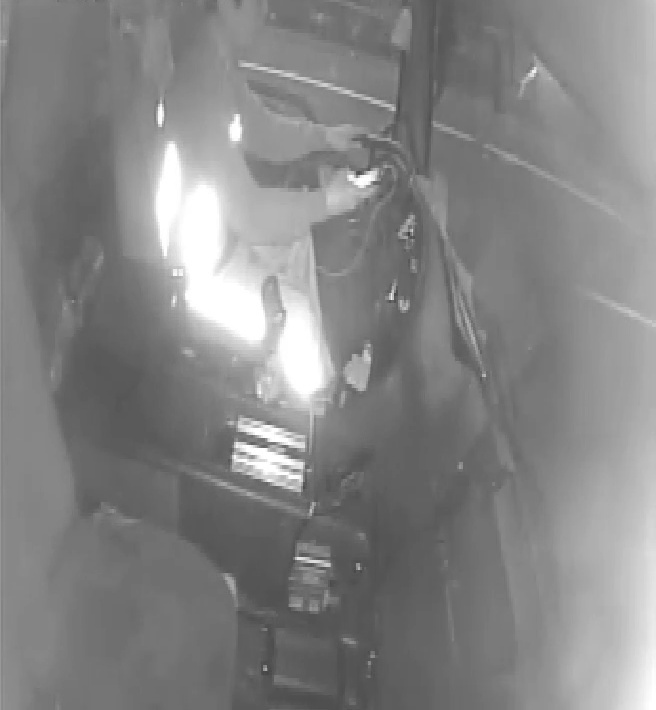cellphone: (336, 164, 386, 194)
